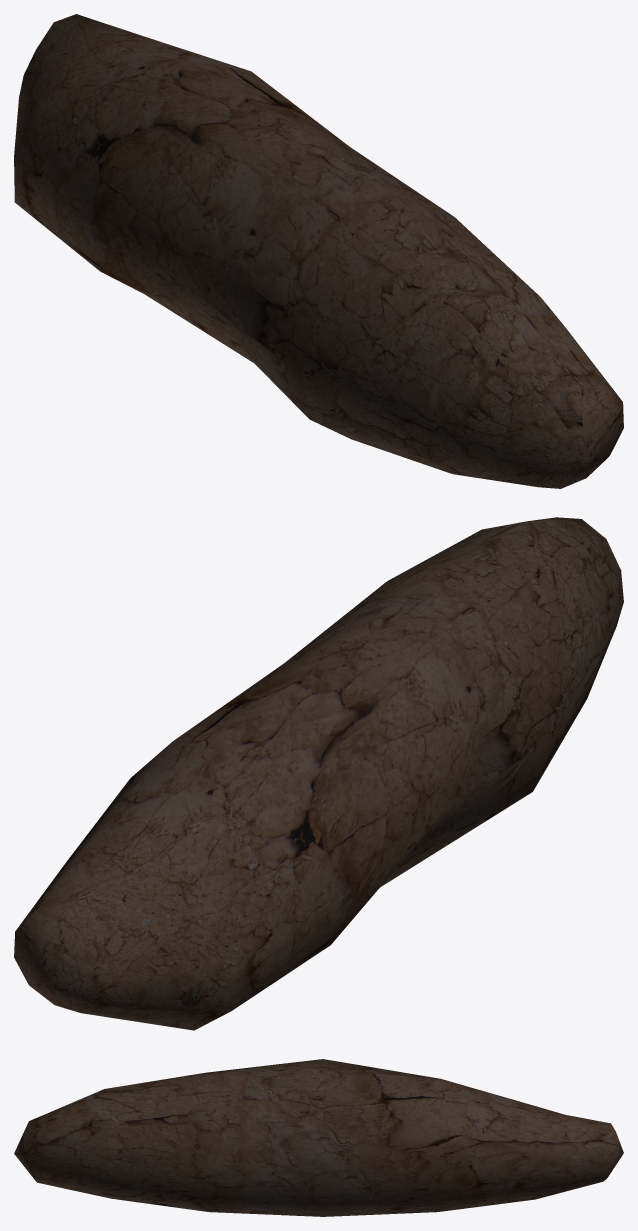
File: Poop.fbx
3 renders of one model, top to bottom at view 1: azimuth 30°, elevation 25°; view 2: azimuth 150°, elevation 25°; view 3: azimuth 270°, elevation 25°, orthographic. The views are drawn at different scales.
Visible parts, largest first — view 1: PoopMesh; view 2: PoopMesh; view 3: PoopMesh.
Boxes of the visible parts, bbox=[...] form: PoopMesh: bbox=[14, 14, 623, 488]; PoopMesh: bbox=[14, 517, 623, 1030]; PoopMesh: bbox=[14, 1059, 623, 1216].
Bounding box in the file's own units: 7.28 × 8.18 × 32.17.
